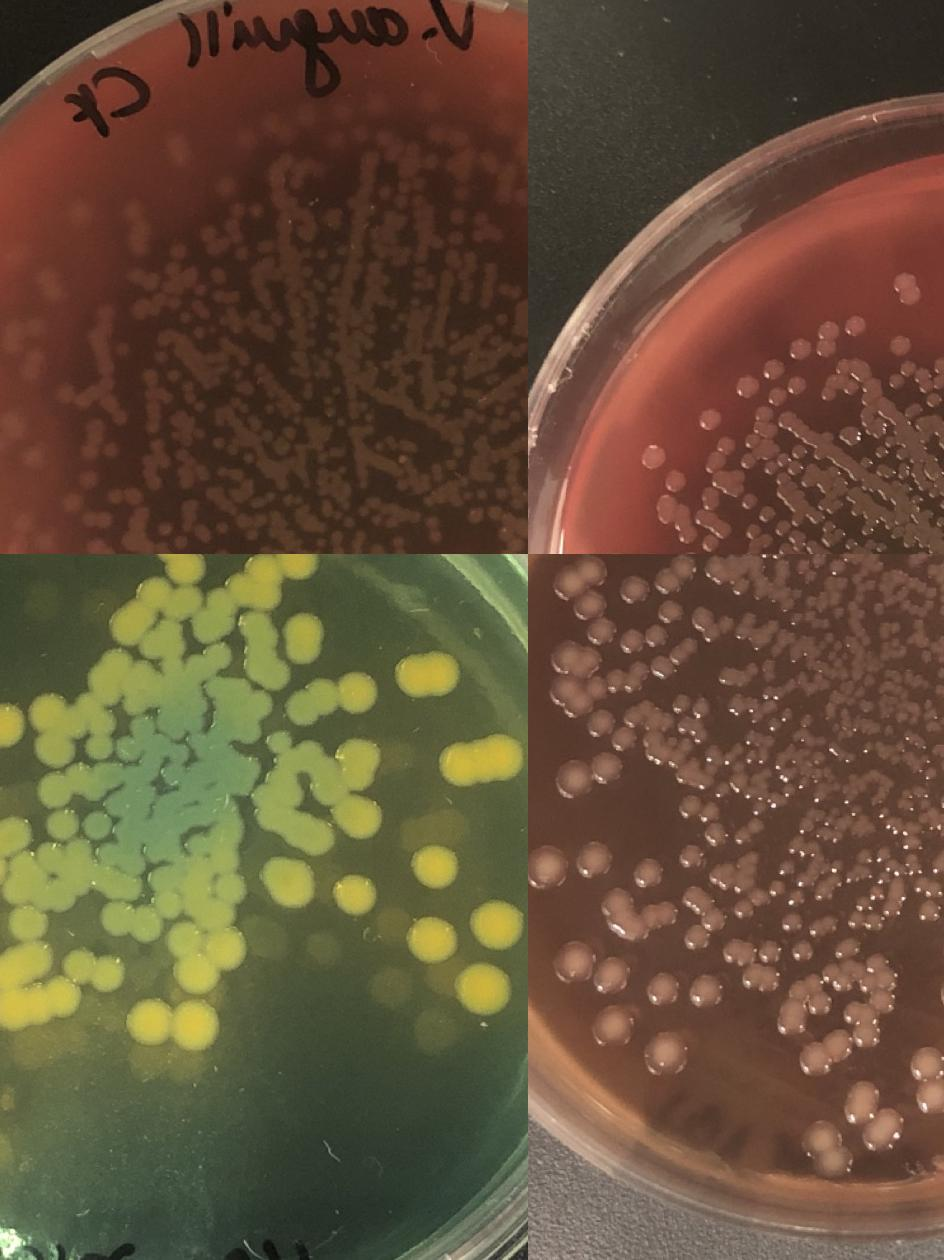valgino: (30, 646, 207, 788), (104, 848, 250, 994), (186, 554, 317, 700), (0, 941, 124, 1029), (0, 815, 65, 906), (126, 998, 221, 1048), (312, 738, 379, 807), (137, 554, 205, 614), (102, 841, 168, 901), (240, 611, 290, 690), (441, 737, 524, 784), (110, 606, 182, 656), (252, 766, 305, 830), (398, 652, 460, 696), (38, 772, 78, 840), (260, 857, 314, 906), (471, 900, 523, 949), (406, 915, 457, 964), (457, 965, 510, 1012), (286, 678, 336, 725), (84, 792, 128, 842), (284, 614, 324, 664), (47, 874, 91, 912), (340, 798, 380, 839), (334, 874, 374, 914), (338, 672, 378, 712), (418, 848, 456, 887), (298, 820, 334, 855), (0, 705, 24, 754), (11, 908, 41, 939), (80, 776, 105, 800), (67, 838, 91, 862), (186, 832, 210, 856), (207, 789, 231, 813), (268, 731, 292, 755), (160, 653, 184, 677), (297, 742, 322, 765), (96, 843, 120, 866), (248, 693, 272, 716), (237, 720, 261, 742), (131, 660, 155, 682)
vangil: (887, 359, 944, 410), (762, 443, 808, 487), (705, 458, 745, 488), (778, 410, 812, 441), (701, 522, 733, 552), (225, 220, 248, 260), (460, 486, 509, 504), (894, 273, 919, 305), (746, 522, 774, 550), (818, 320, 838, 358), (497, 528, 525, 554), (391, 534, 425, 554), (422, 514, 444, 543), (698, 407, 722, 432), (656, 501, 680, 525), (663, 469, 687, 493), (642, 445, 666, 469), (735, 376, 759, 400), (788, 337, 812, 361), (820, 376, 840, 404), (702, 486, 721, 512), (892, 335, 912, 355), (764, 360, 782, 381), (716, 437, 735, 455), (842, 426, 860, 445), (846, 317, 864, 336), (680, 526, 698, 544), (774, 519, 792, 537), (758, 504, 776, 522), (740, 492, 758, 510), (740, 452, 758, 470), (742, 432, 760, 450), (755, 406, 773, 424), (787, 376, 805, 394), (822, 518, 838, 536), (770, 388, 786, 406), (849, 501, 865, 518), (805, 463, 821, 480), (906, 402, 922, 419), (836, 359, 852, 376), (931, 355, 944, 375), (858, 454, 874, 470), (896, 446, 912, 462), (467, 508, 483, 523), (845, 381, 860, 396), (875, 462, 891, 476), (883, 434, 899, 448), (203, 223, 217, 238), (175, 536, 189, 550), (158, 520, 172, 534), (109, 488, 123, 502), (230, 367, 244, 381), (179, 310, 193, 324), (249, 309, 263, 323), (212, 268, 226, 282), (164, 262, 178, 276), (213, 434, 226, 448), (253, 361, 267, 374), (194, 325, 208, 338), (181, 476, 195, 488), (104, 444, 118, 456), (194, 284, 208, 296)
vharveyi: (549, 675, 642, 752), (554, 555, 619, 647), (552, 941, 630, 995), (843, 1088, 900, 1156), (553, 752, 622, 799), (802, 1120, 854, 1182), (723, 938, 780, 993), (764, 874, 808, 938), (796, 1030, 852, 1078), (910, 1047, 944, 1115), (645, 1032, 691, 1076), (592, 1006, 638, 1050), (684, 906, 728, 951), (528, 845, 571, 889), (844, 1001, 882, 1050), (551, 641, 601, 678), (654, 554, 696, 596), (691, 606, 734, 646), (604, 660, 648, 694), (620, 624, 669, 654), (576, 842, 614, 880), (644, 970, 682, 1007), (686, 974, 722, 1010), (776, 998, 808, 1038), (630, 858, 664, 890), (820, 962, 856, 992), (617, 574, 649, 606), (640, 902, 678, 928), (671, 694, 711, 718), (602, 888, 632, 916), (728, 896, 756, 923), (868, 988, 894, 1014), (789, 938, 815, 964), (834, 936, 860, 962), (914, 900, 940, 926), (680, 884, 706, 910), (767, 707, 793, 731), (759, 940, 783, 964), (678, 843, 702, 867), (678, 794, 702, 818), (651, 654, 675, 678), (914, 878, 942, 898), (704, 822, 727, 846), (658, 600, 682, 622), (809, 992, 831, 1015), (868, 952, 890, 975), (717, 666, 737, 686), (732, 576, 750, 596), (874, 850, 889, 867), (788, 836, 804, 851), (742, 611, 758, 626), (856, 850, 870, 866), (747, 818, 763, 832), (798, 818, 814, 832), (714, 782, 730, 796), (677, 718, 693, 732), (932, 856, 944, 873)
